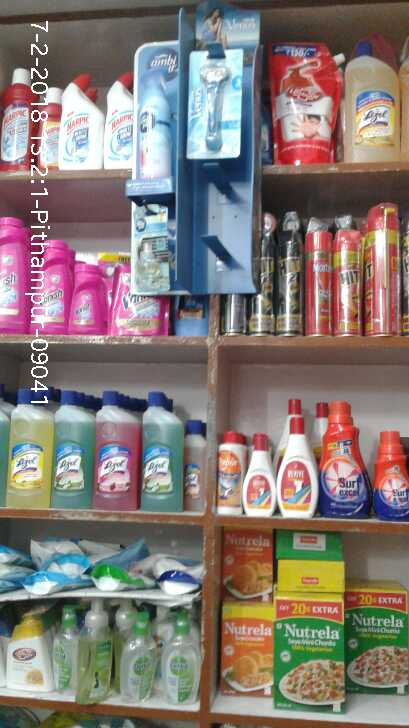beauty: (187, 48, 239, 160)
home: (137, 66, 170, 177), (133, 219, 166, 296)
